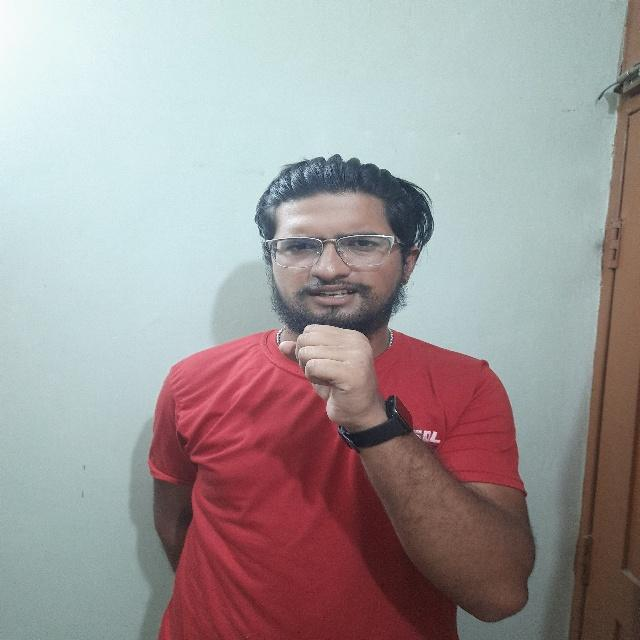Fist Mouth: (240, 152, 431, 455)
